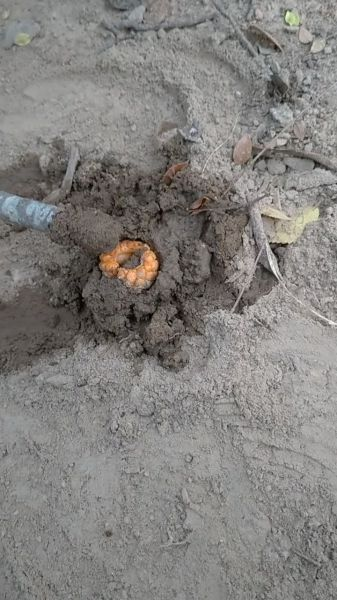eggs: (87, 230, 168, 301)
